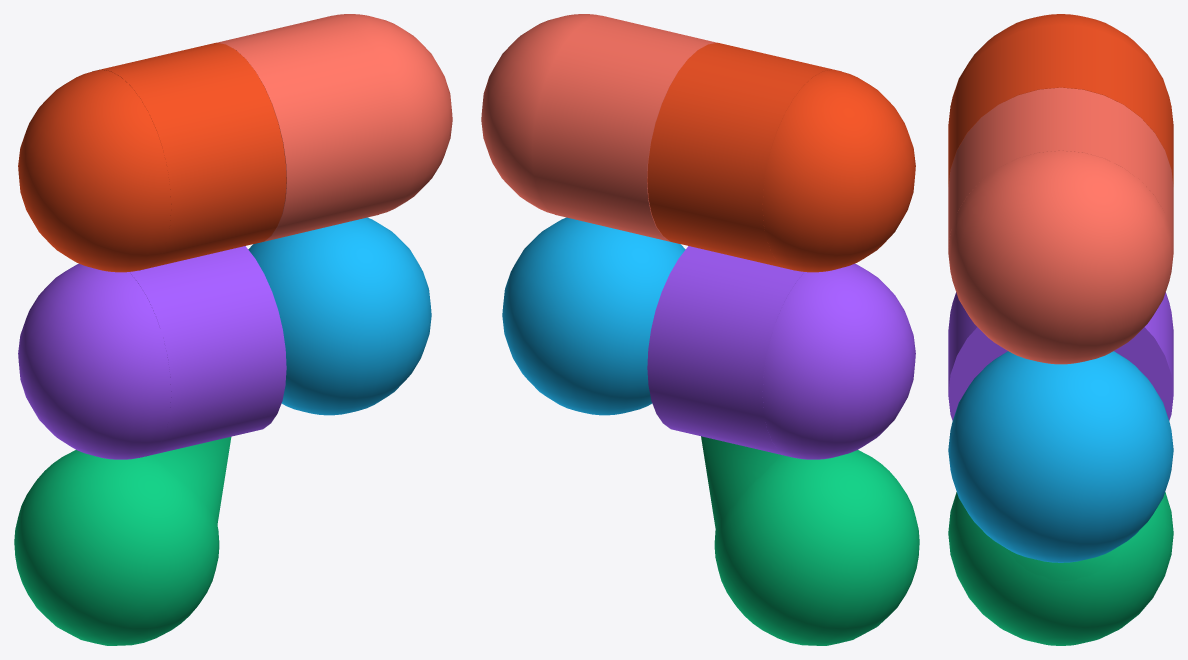
Rendered from figma.glb.
3 views of the same model, side by side, from view 1: azimuth 30°, elevation 25°; view 2: azimuth 150°, elevation 25°; view 3: azimuth 270°, elevation 25° (orthographic). The views are drawn at different scales.
Visible parts, largest first — view 1: Cylinder, Cylinder.002, Sphere.001, Cylinder.001, Sphere; view 2: Cylinder, Cylinder.002, Sphere.001, Cylinder.001, Sphere; view 3: Cylinder.001, Sphere, Sphere.001, Cylinder, Cylinder.002.
Boxes of the visible parts, <box> form: Cylinder: <box>18,42,286,272</box>; Cylinder.002: <box>18,246,286,459</box>; Sphere.001: <box>14,437,231,645</box>; Cylinder.001: <box>217,14,452,243</box>; Sphere: <box>248,217,431,415</box>; Cylinder: <box>647,42,915,272</box>; Cylinder.002: <box>647,246,915,459</box>; Sphere.001: <box>701,436,919,645</box>; Cylinder.001: <box>481,14,716,243</box>; Sphere: <box>502,217,685,415</box>; Cylinder.001: <box>948,87,1173,364</box>; Sphere: <box>948,351,1173,562</box>; Sphere.001: <box>948,492,1173,645</box>; Cylinder: <box>948,14,1173,186</box>; Cylinder.002: <box>948,292,1173,420</box>.
Bounding box in the file's own units: 1.59 × 2.07 × 0.6903.
